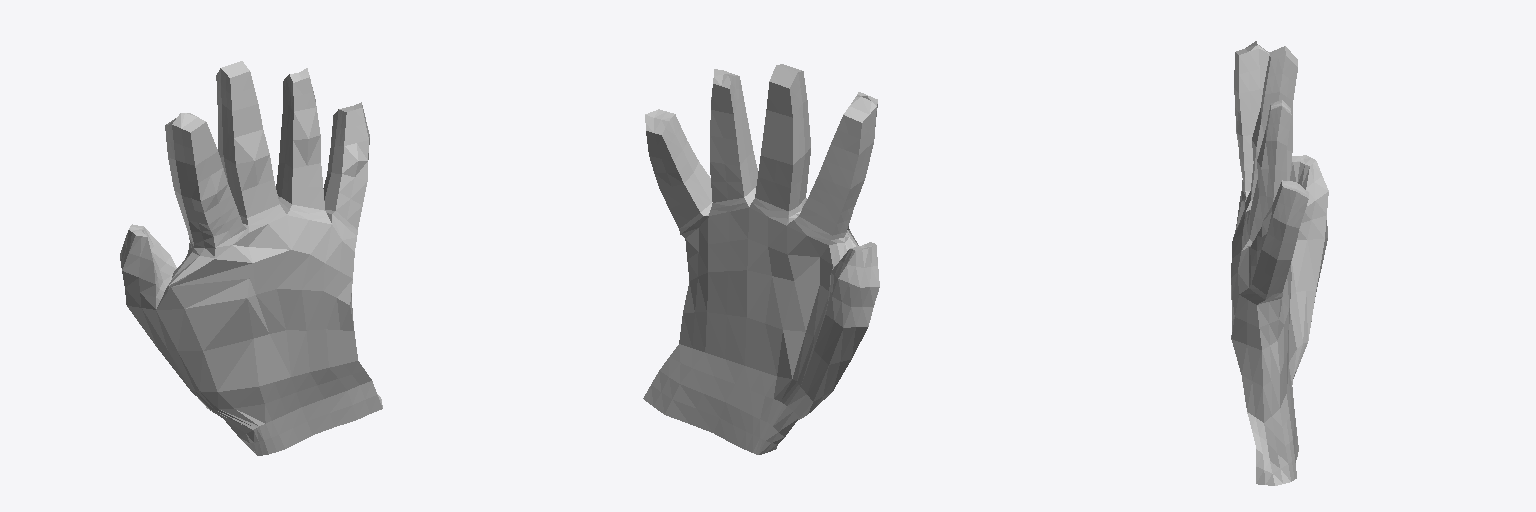
File: grip0001.obj
3 renders of one model, left to right at view 1: azimuth 30°, elevation 25°; view 2: azimuth 150°, elevation 25°; view 3: azimuth 270°, elevation 25°, orthographic.
Parts seen in each view (by area): view 1: Hand; view 2: Hand; view 3: Hand.
Boxes of the visible parts, <box> form: Hand: <box>120,61,382,455</box>; Hand: <box>643,64,879,454</box>; Hand: <box>1231,41,1328,485</box>.
Size of the model in its own units: 3.27 by 4.97 by 1.12.